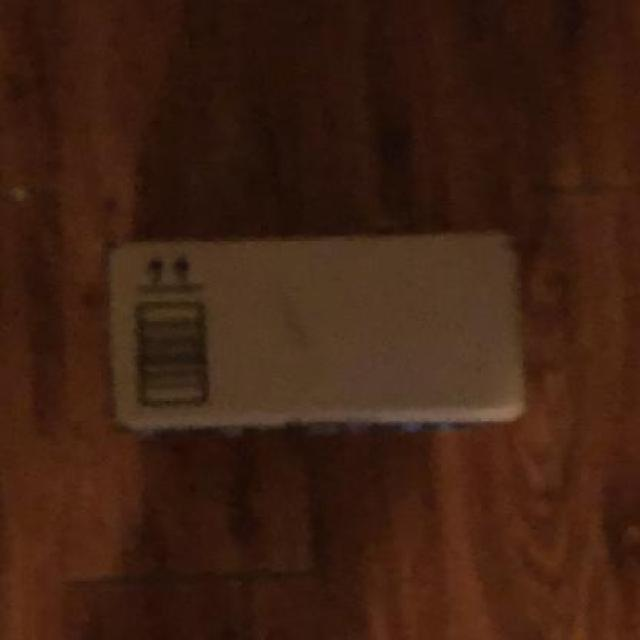cardboxes: (105, 230, 533, 445)
